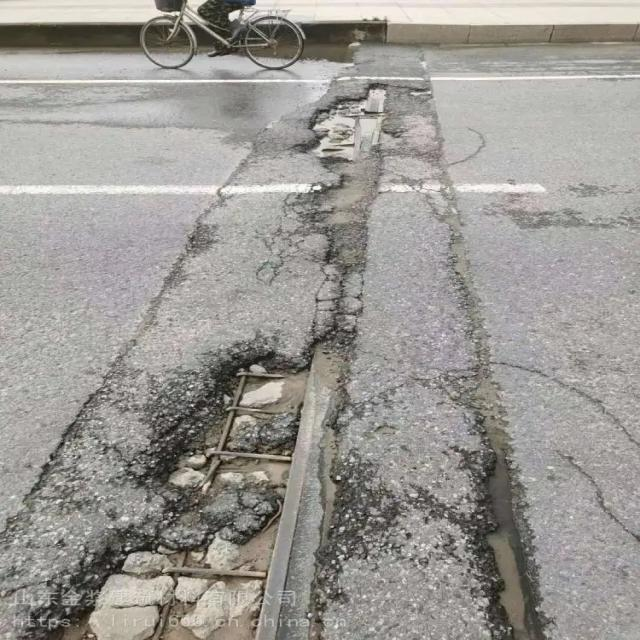Pothole: (58, 321, 387, 639), (429, 208, 566, 639), (300, 86, 423, 310)
